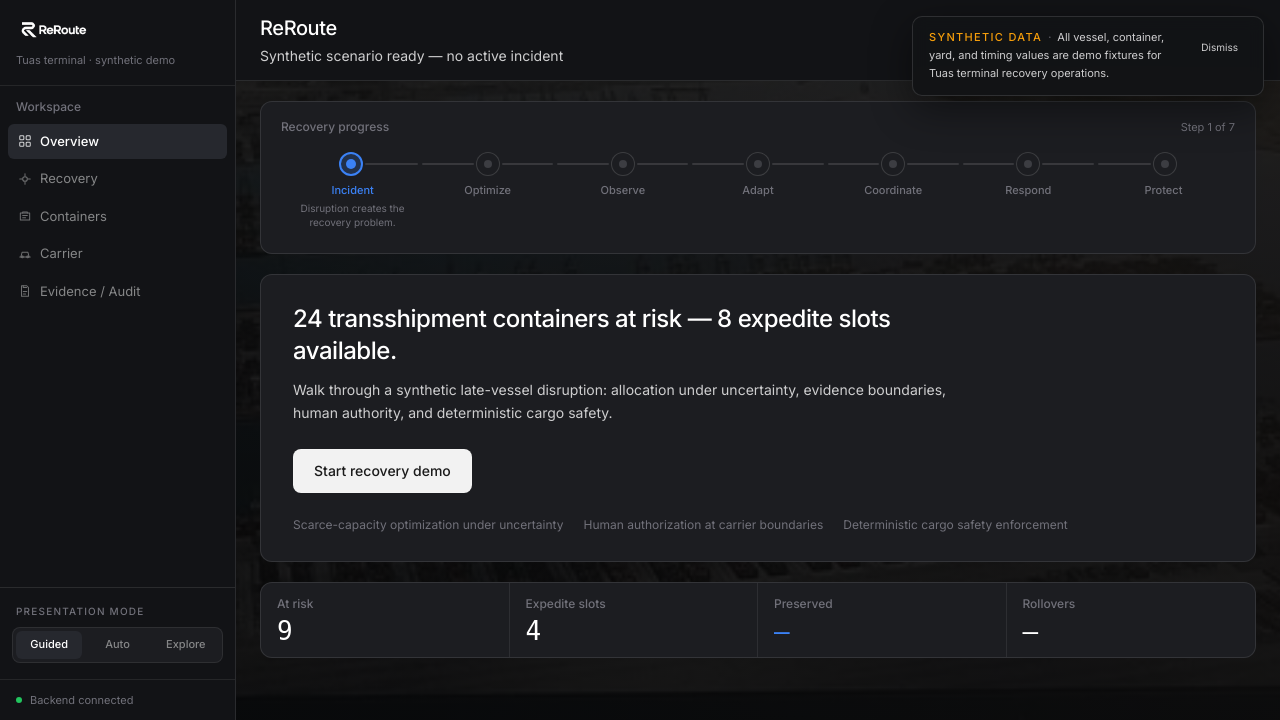
OperationsConsole canonical scarcity › creates canonical incident and renders live recovery summary
Click the button "Start recovery demo".
click(382, 471)  # box [293,449,472,493]
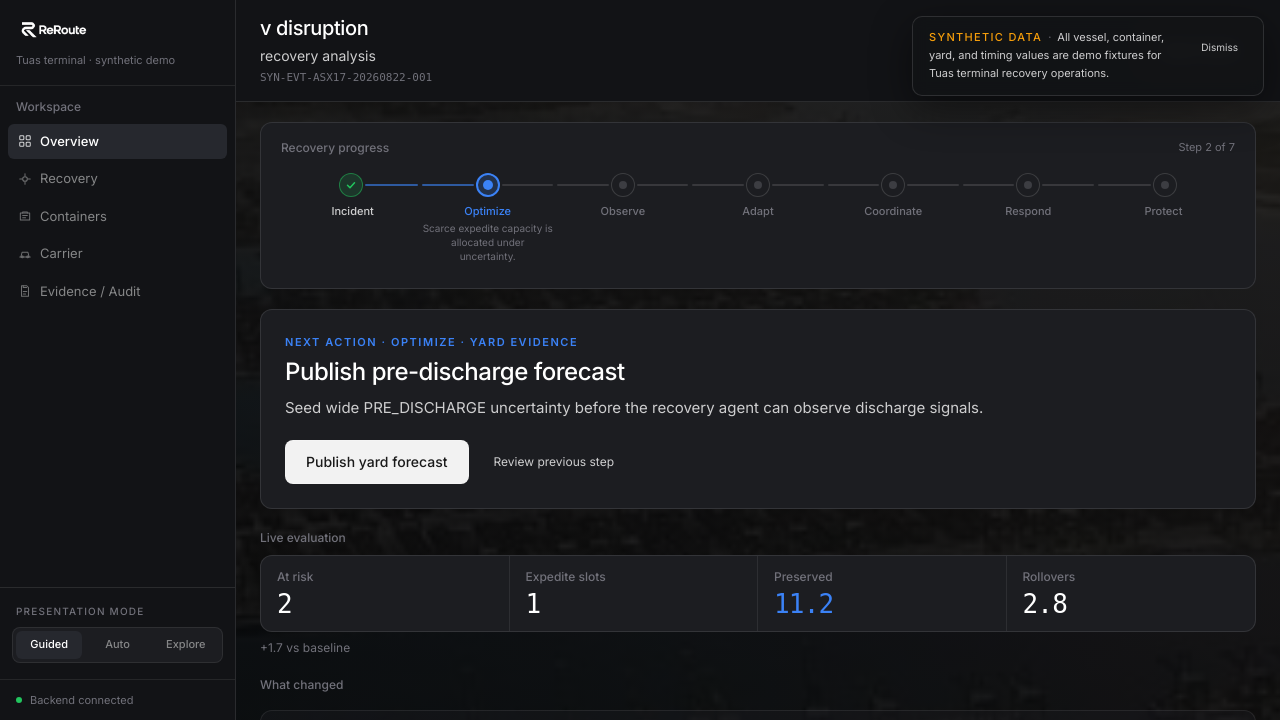
Expected: the text "SYN-EVT-ASX17-20260822-001" is shown, [260,70,432,86]
Expected: the text "Live evaluation" is shown, [260,530,346,545]
Expected: the text "11.2" is shown, [774,589,834,619]
